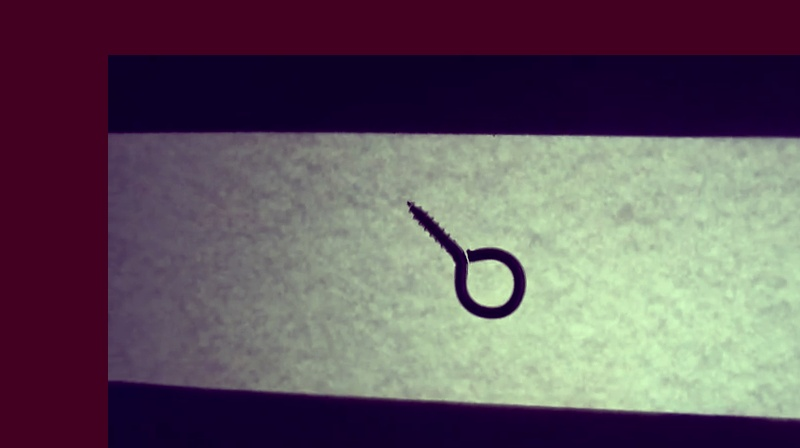O001: (400, 195, 527, 321)
